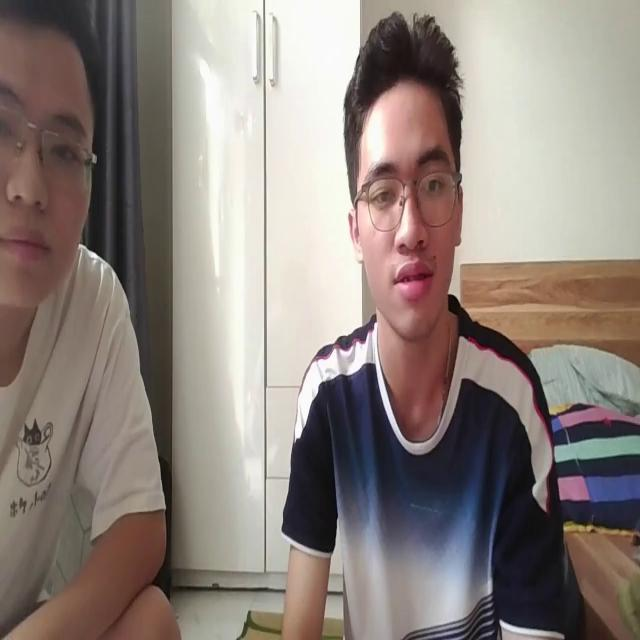extra_person: (1, 0, 184, 640)
student: (279, 6, 571, 640)
